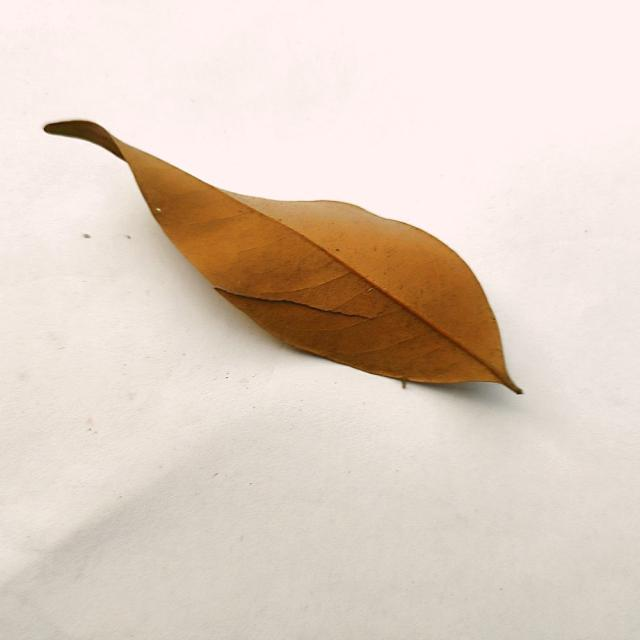Dry_Leaf-Lychee: (42, 121, 522, 394)
